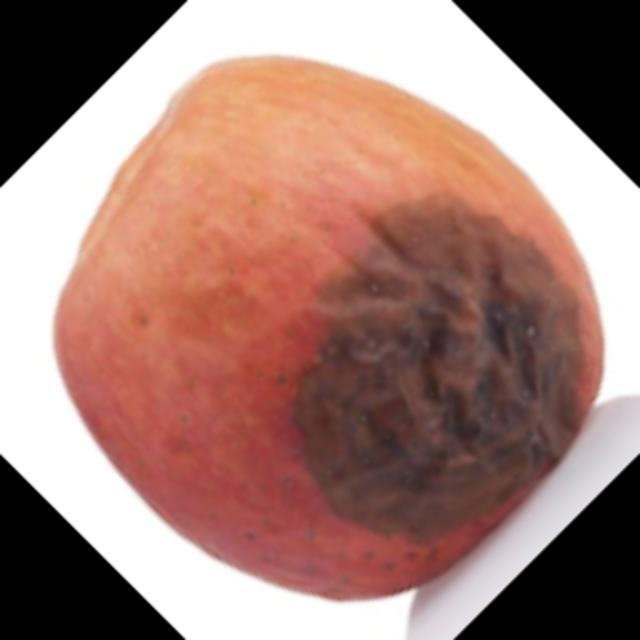Apel Tidak Segar: (27, 36, 627, 608)
